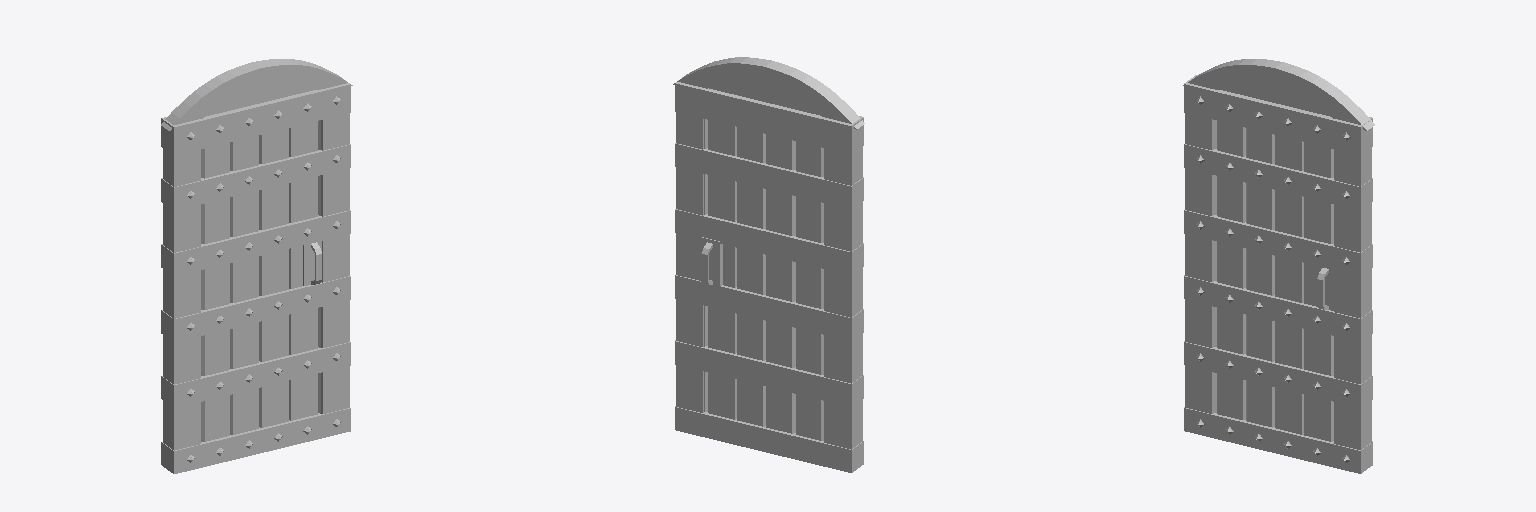
Rendered from Door_3_Round.obj.
3 renders of one model, left to right at view 1: azimuth 30°, elevation 25°; view 2: azimuth 150°, elevation 25°; view 3: azimuth 330°, elevation 25°, orthographic.
Parts seen in each view (by area): view 1: Door_3_Round; view 2: Door_3_Round; view 3: Door_3_Round.
Boxes of the visible parts, <box> form: Door_3_Round: <box>161,59,352,473</box>; Door_3_Round: <box>673,57,864,472</box>; Door_3_Round: <box>1183,59,1374,473</box>.
Bounding box in the file's own units: 1.17 × 2.32 × 0.253.